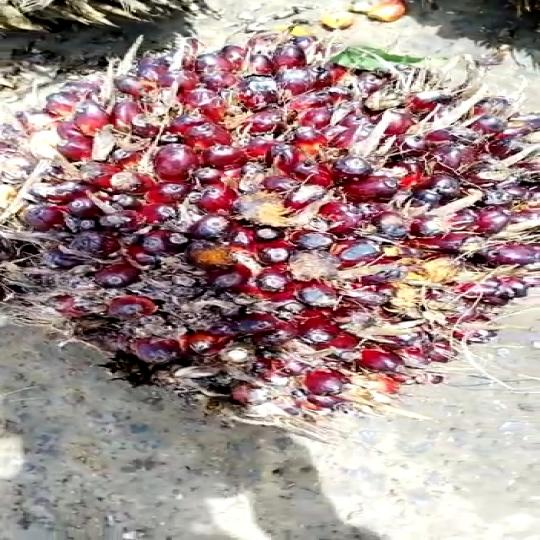masak: (0, 31, 540, 440)
